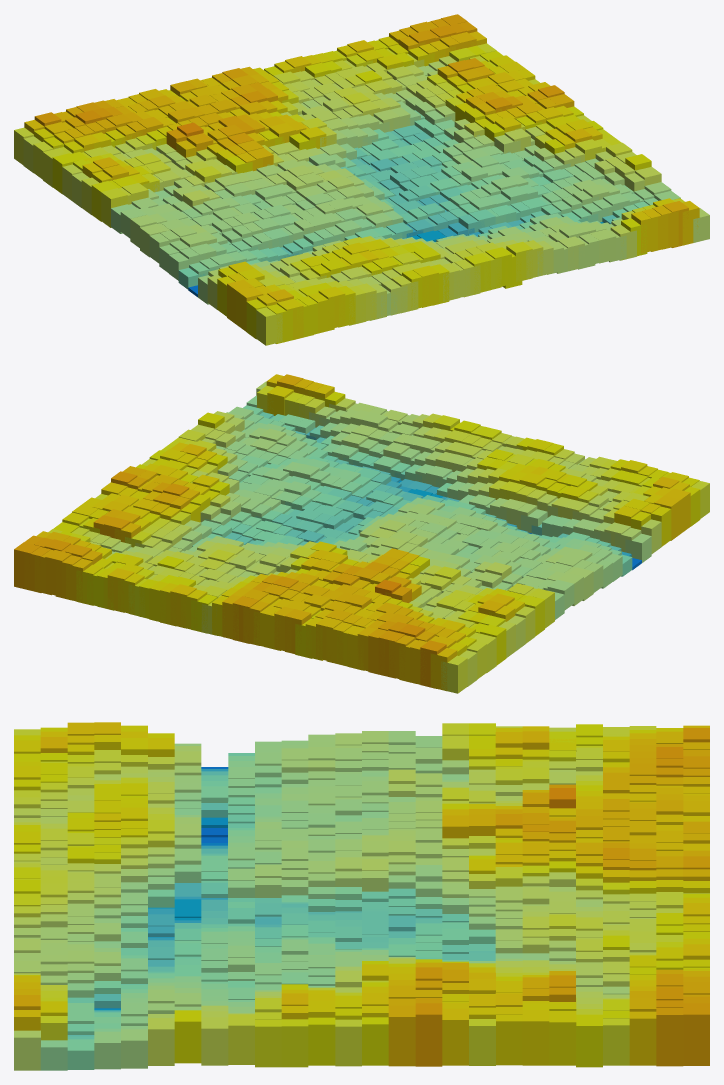
File: population.glb
The picture shows the model from 3 angles, top to bottom: view 1: azimuth 30°, elevation 25°; view 2: azimuth 150°, elevation 25°; view 3: azimuth 270°, elevation 25°; orthographic projection. The views are drawn at different scales.
Parts seen in each view (by area): view 1: population; view 2: population; view 3: population.
Boxes of the visible parts, x1,y1,x2,y2 form: population: [14, 14, 709, 345]; population: [14, 374, 709, 693]; population: [14, 722, 709, 1070].
Size of the model in its own units: 2644 by 250 by 2599.
